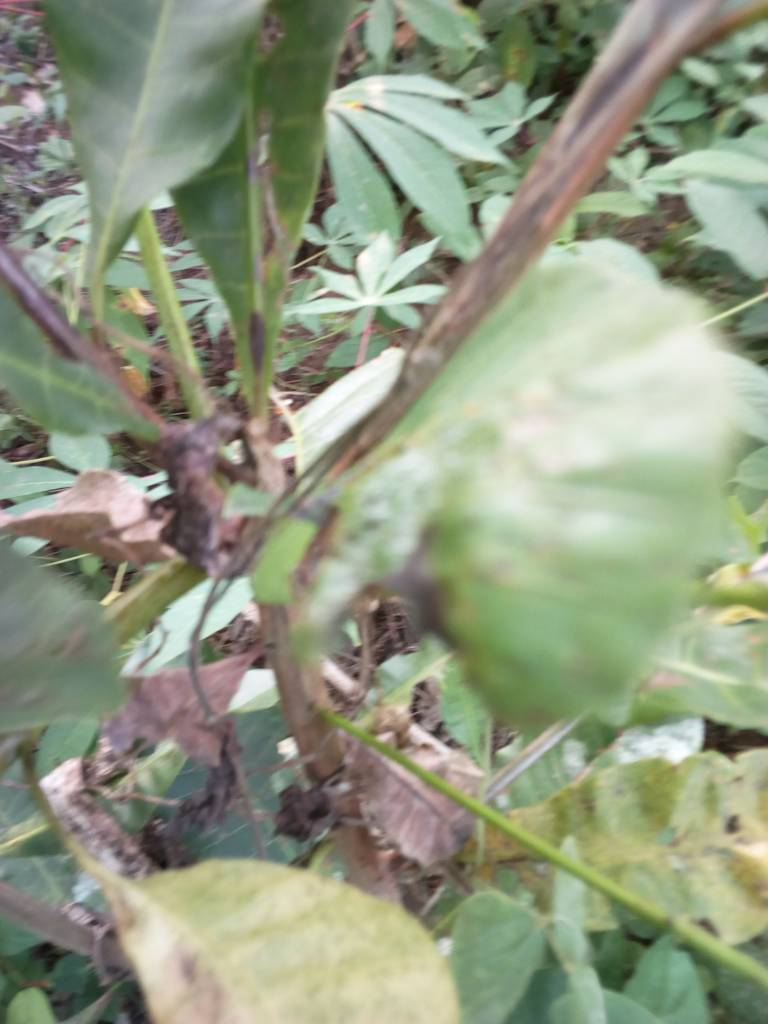Dessèchement des bourgeons: (171, 408, 247, 574)
